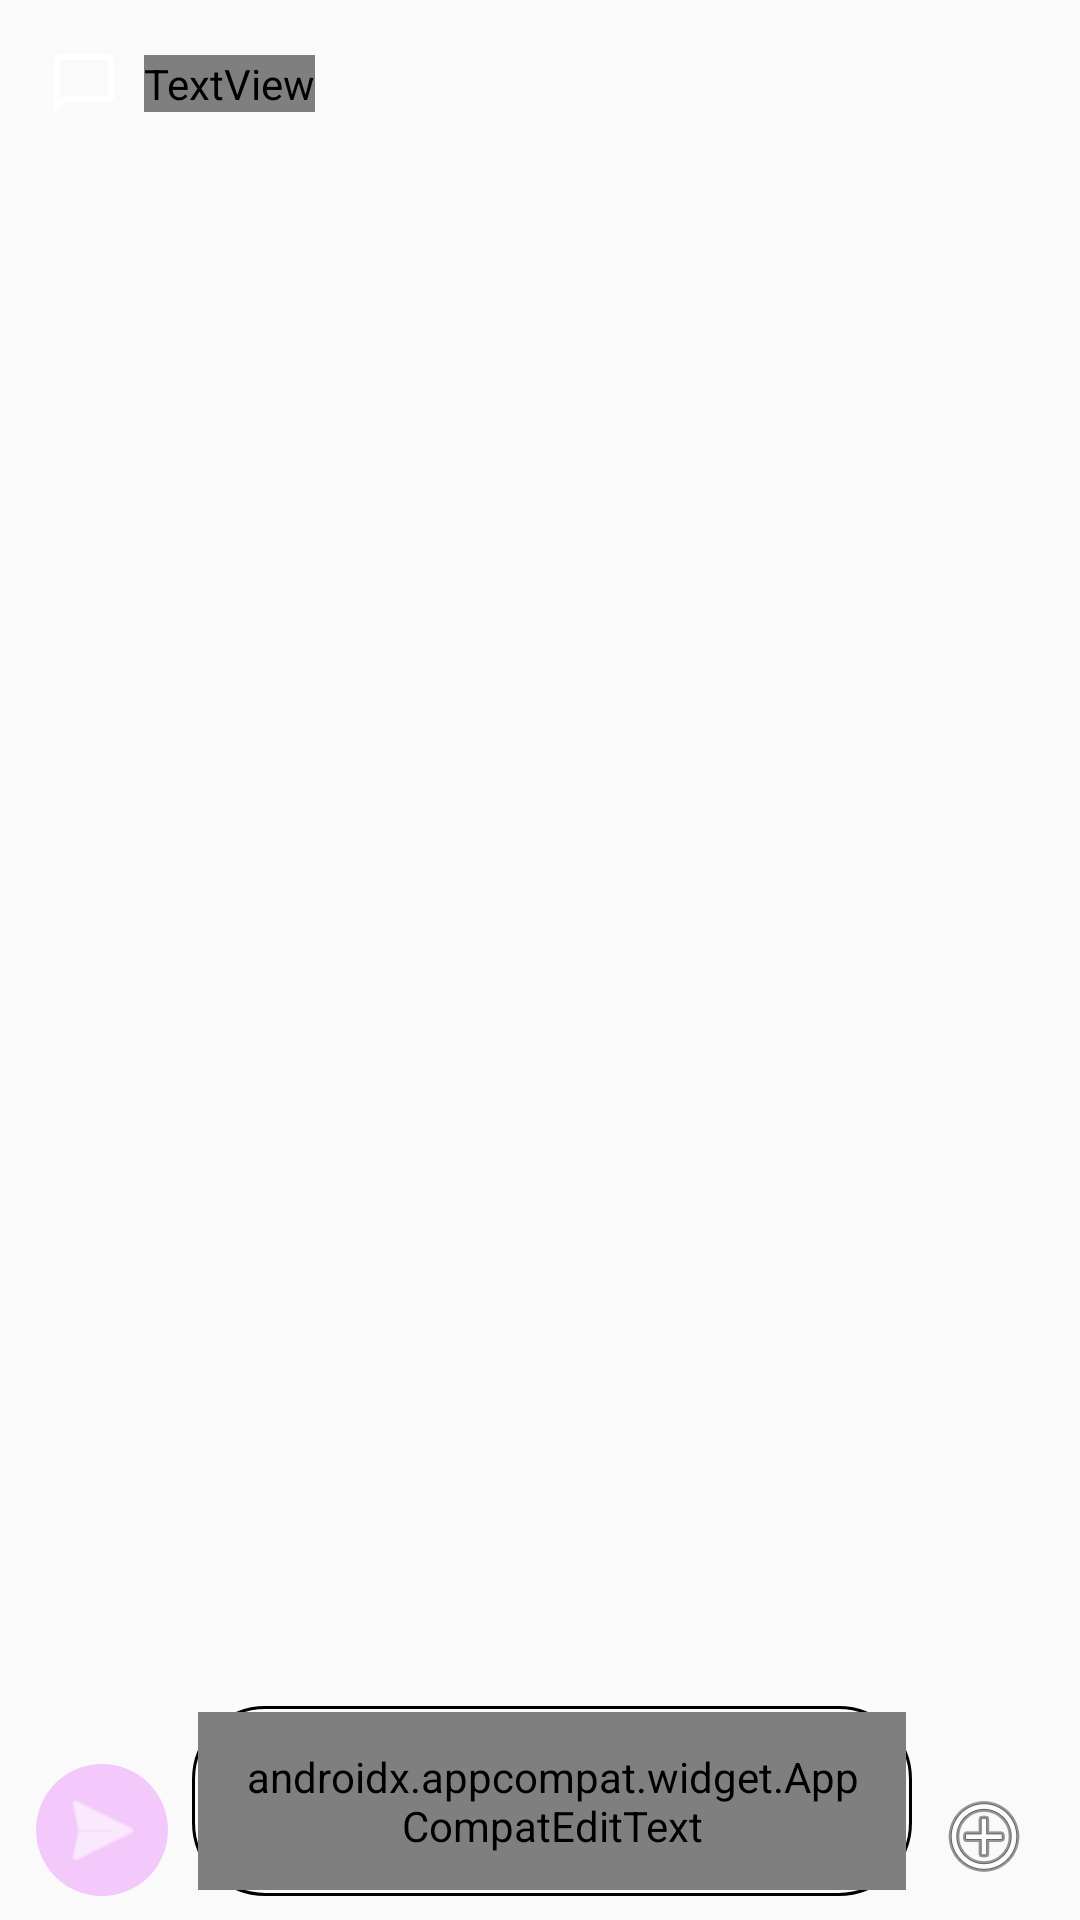

Icons on this 1080 x 1920 Android screen, each with its box as bbox=[x1, y1, x2, y2]:
add: bbox=[948, 1801, 1020, 1872]
send: bbox=[36, 1764, 168, 1896]
